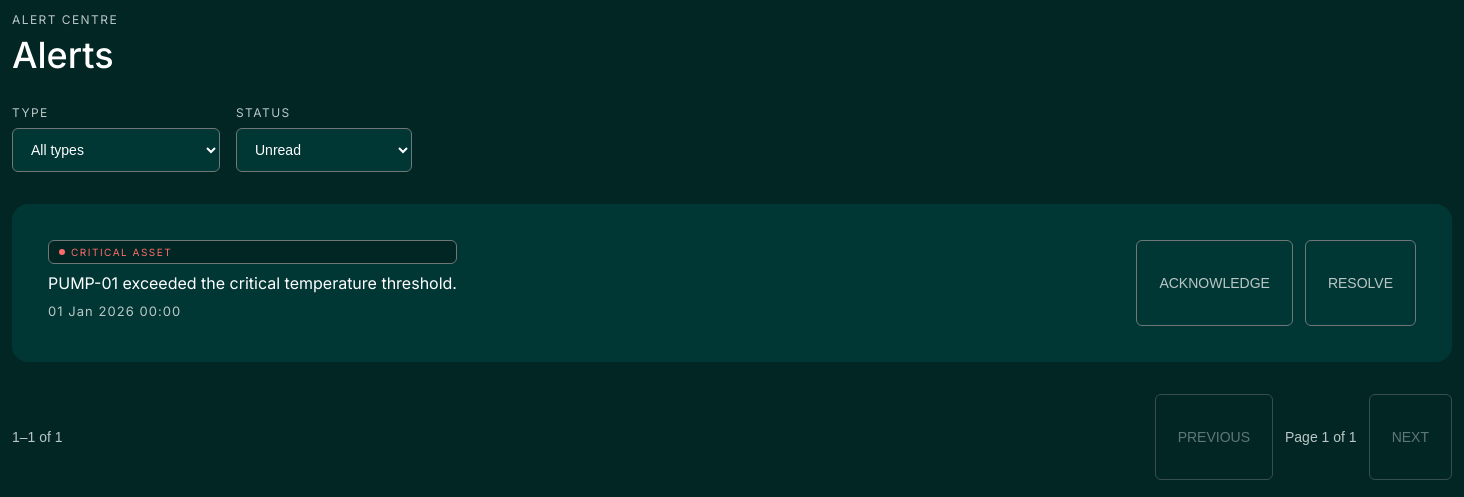
it: AlertsPage › shows the filtered-empty message, not the sphere, once a non-default filter has no matches
The image size is (1464, 497).
Expected: the text "PUMP-01 exceeded the critical temperature threshold." is shown, [48, 272, 457, 294]
Select "Acknowledged" in the dropdown labelled "Status" at (324, 150), box [236, 128, 412, 172]
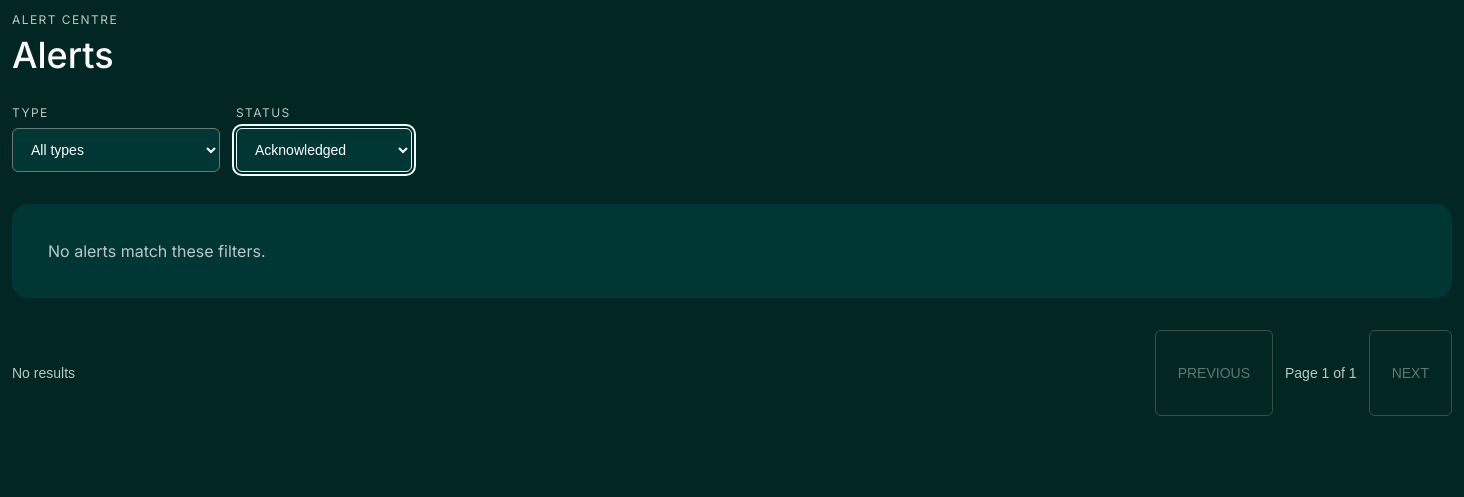
Now the text "No alerts match these filters." is shown, box [48, 241, 266, 261]
